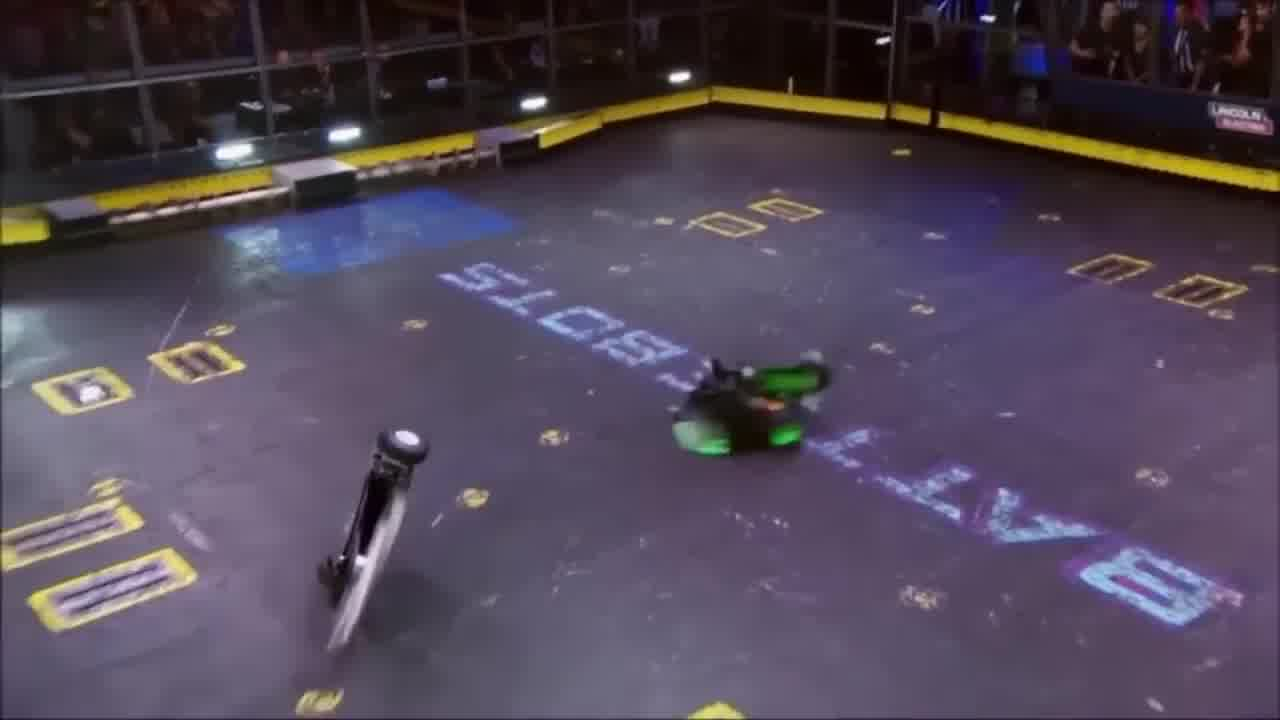combatbot: (316, 424, 435, 655), (680, 350, 833, 456)
